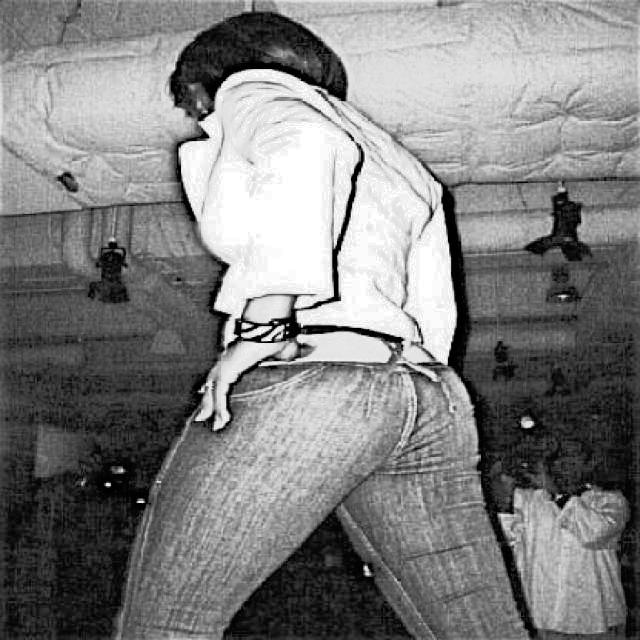Person: (100, 3, 525, 640), (495, 435, 640, 640)
